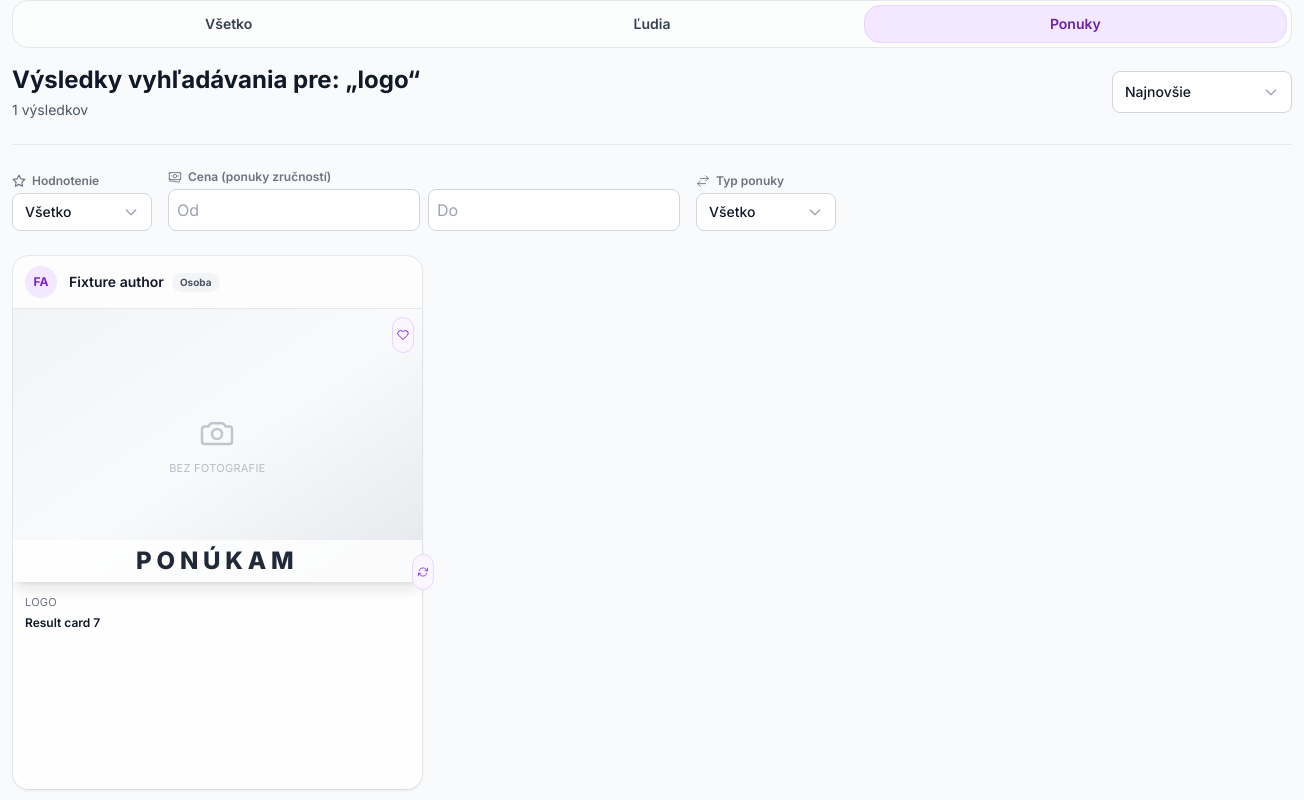
Test: actual /search page offers cards › connects the real responsive card with mobile=false
Expected: the text "Result card 7" is shown, [25,615,100,630]
Expected: the button "FA Fixture author Osoba" is shown, [13,256,422,309]
What coordinates should you click on to do the following:
click the button named "Otočiť"
I would click on:
 (423, 572)
Its box is [412,554,434,590].
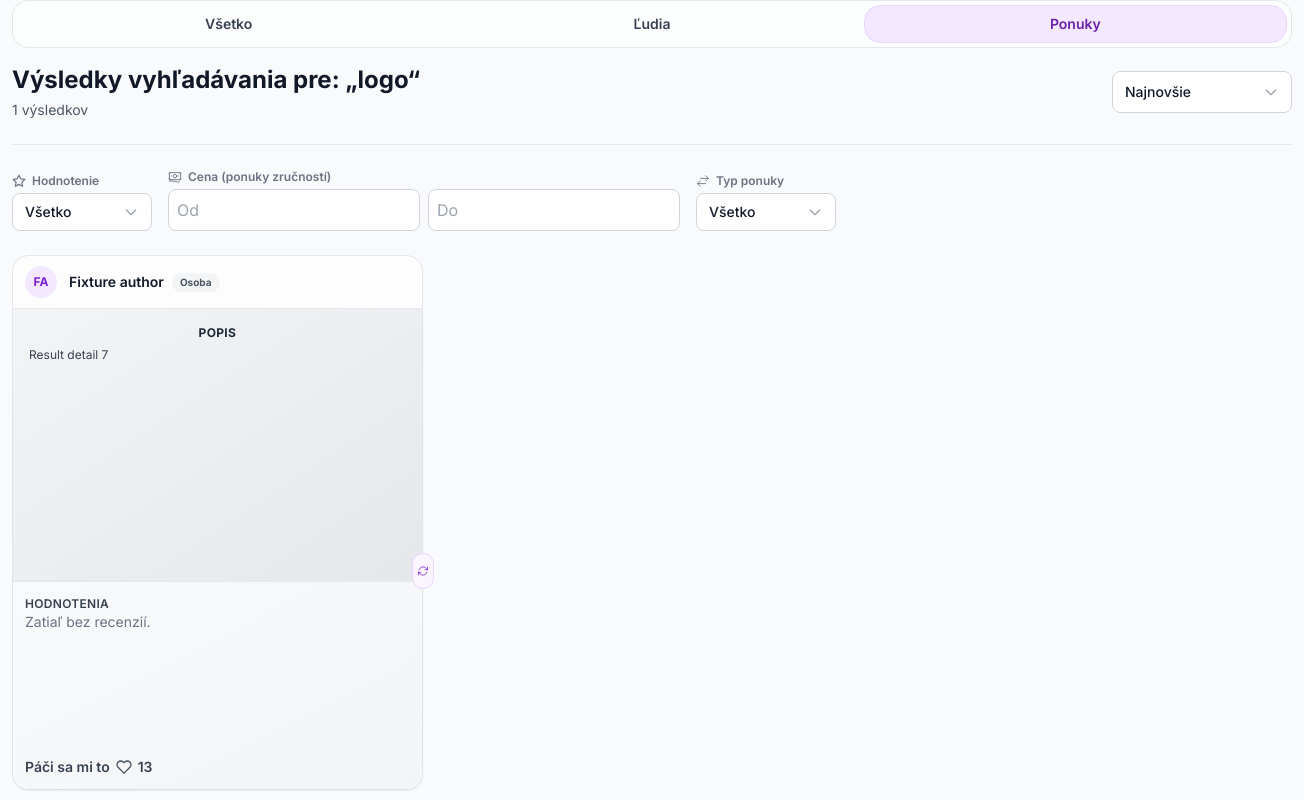
Expected: the text "Result detail 7" is shown, [29,347,108,362]
What coordinates should you click on to do the following:
click the button named "Otočiť"
I would click on:
 (423, 571)
Its box is [412,553,434,589].
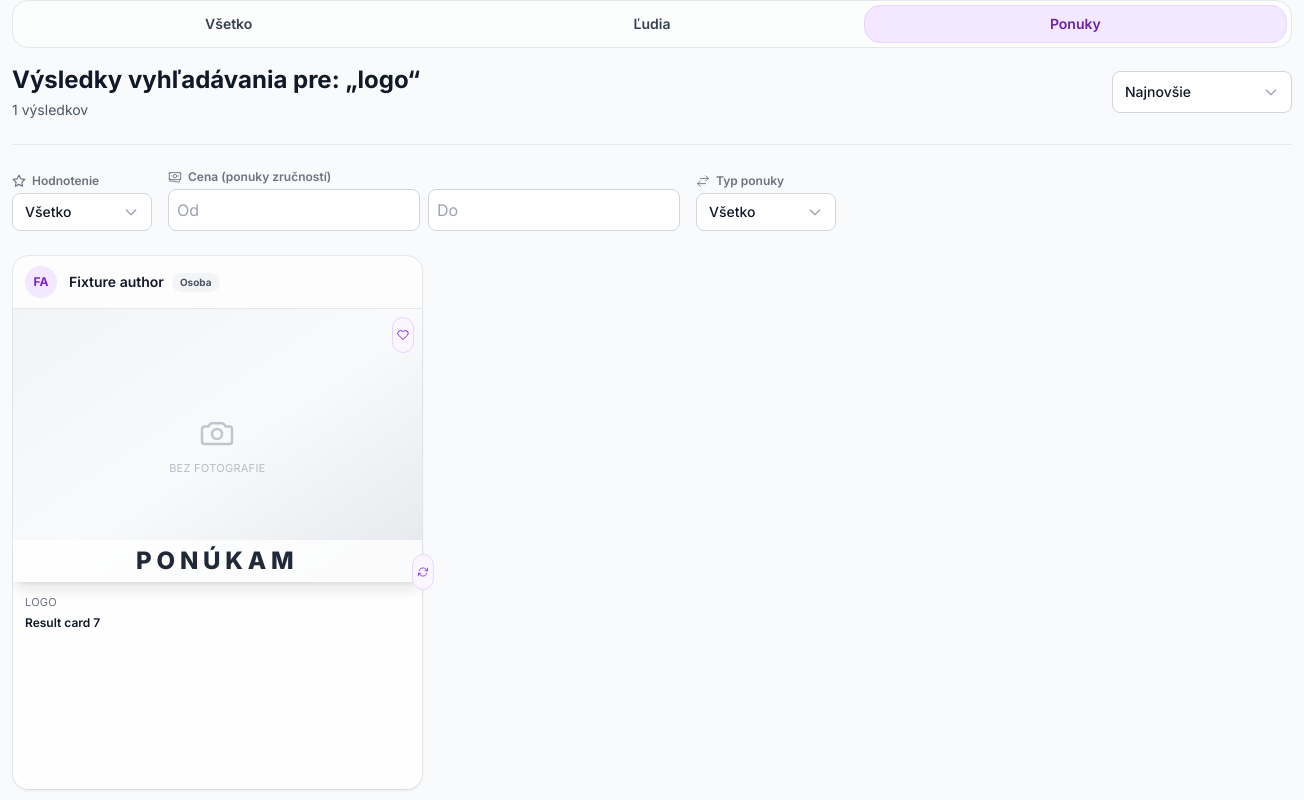
Expected: the element named "Páči sa mi to" is shown, [13,309,422,789]
Expected: the text "Popis" is gone
